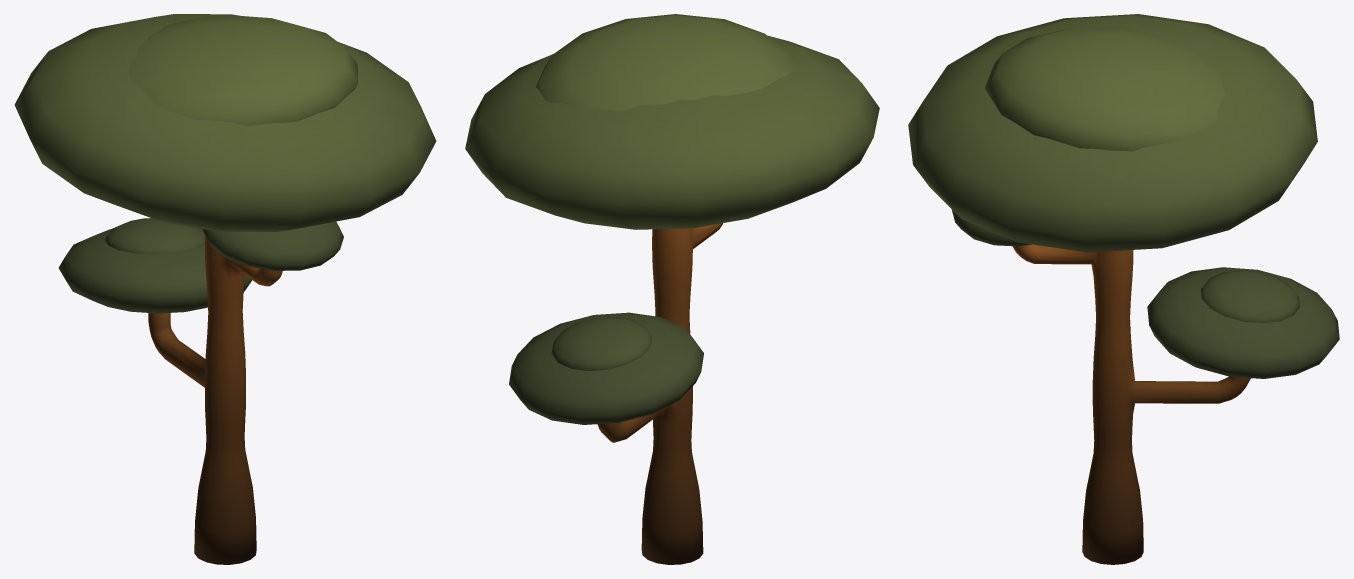
File: boom2.fbx
3 renders of one model, left to right at view 1: azimuth 30°, elevation 25°; view 2: azimuth 150°, elevation 25°; view 3: azimuth 270°, elevation 25°, orthographic. The views are drawn at different scales.
Parts seen in each view (by area): view 1: Sphere.012; view 2: Sphere.012; view 3: Sphere.012.
Part boxes in pixels (x1,y1,x2,y2): Sphere.012: (14, 14, 436, 564); Sphere.012: (465, 14, 879, 564); Sphere.012: (908, 14, 1339, 564).
Size of the model in its own units: 2010 by 2712 by 2125.
1 material, 1 textured.
